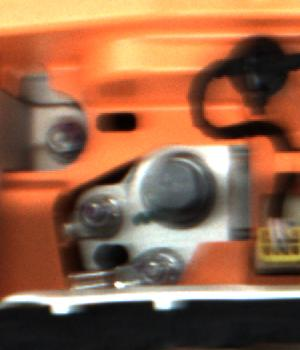nut_b: (132, 148, 219, 234)
screw_s: (38, 113, 85, 159), (78, 196, 125, 238), (135, 249, 178, 282)
